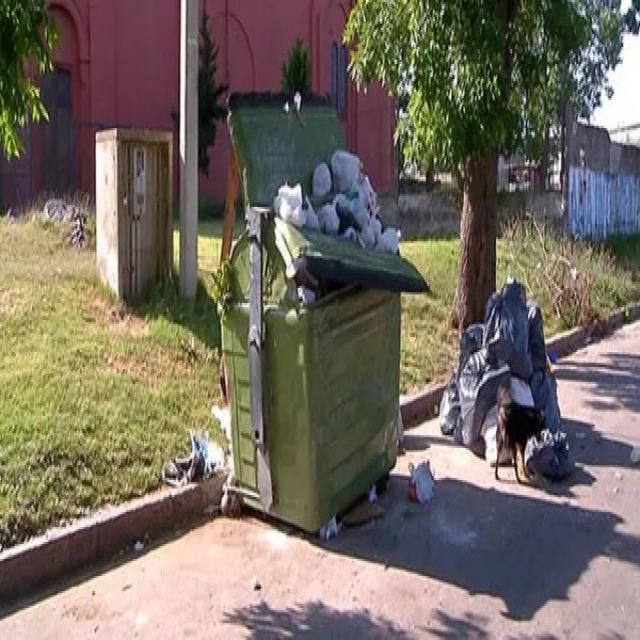garbage: (430, 269, 584, 384), (268, 138, 418, 232), (156, 401, 222, 512), (435, 358, 480, 465), (524, 428, 588, 499), (404, 433, 446, 525)
